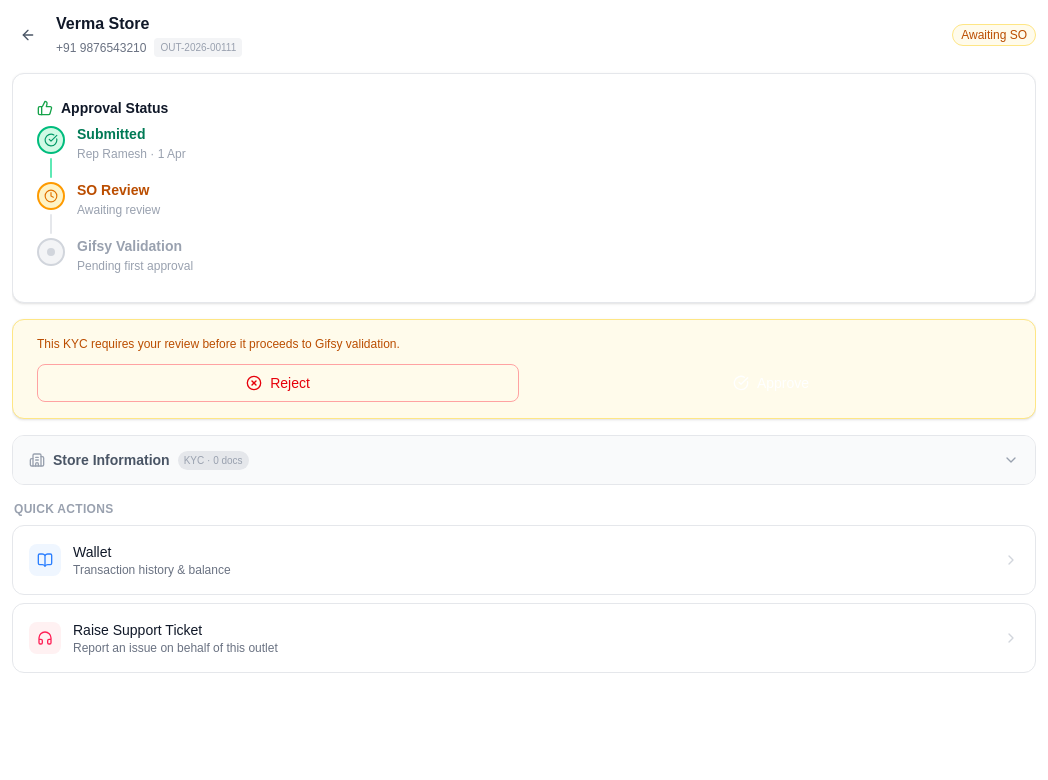
Test: SKGEO — Sales KYC detail location (lat/long) › SKGEO2: falls back to the payment geo when the board geo is absent
Expected: the heading "Verma Store" is shown, [56,15,149,32]
Click the text "Store Information": {"x": 111, "y": 460} [53,450,170,470]
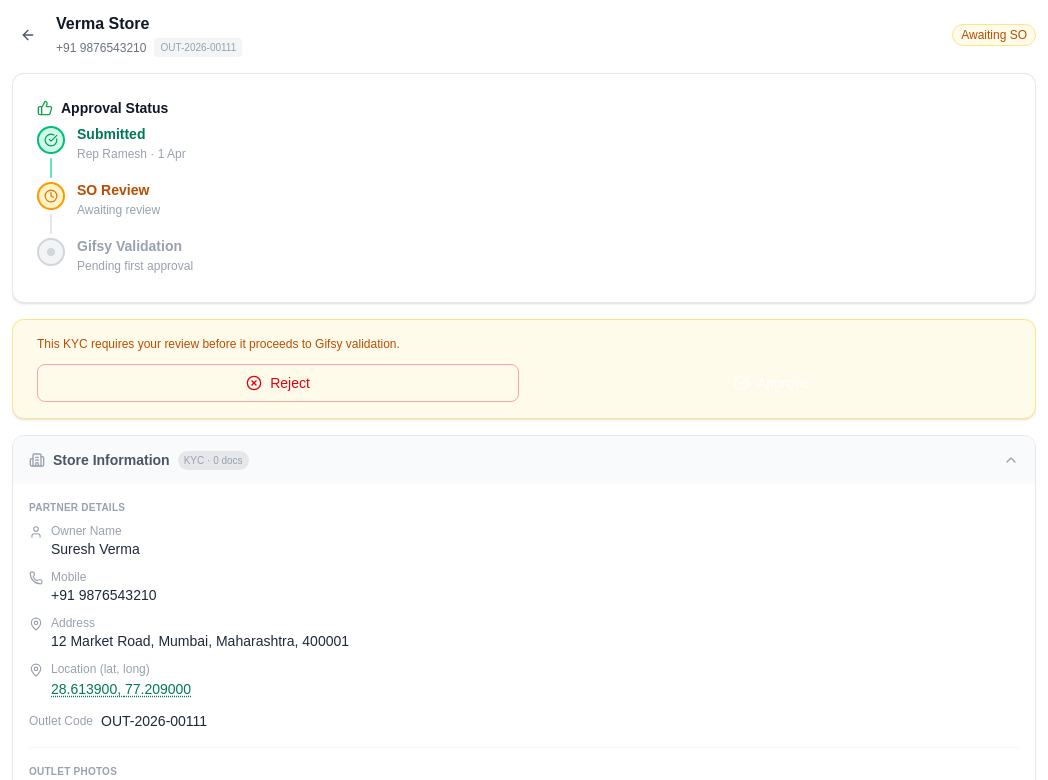
Expected: the element with test id "kyc-store-location" shows "28.613900, 77.209000", [29,662,191,697]
